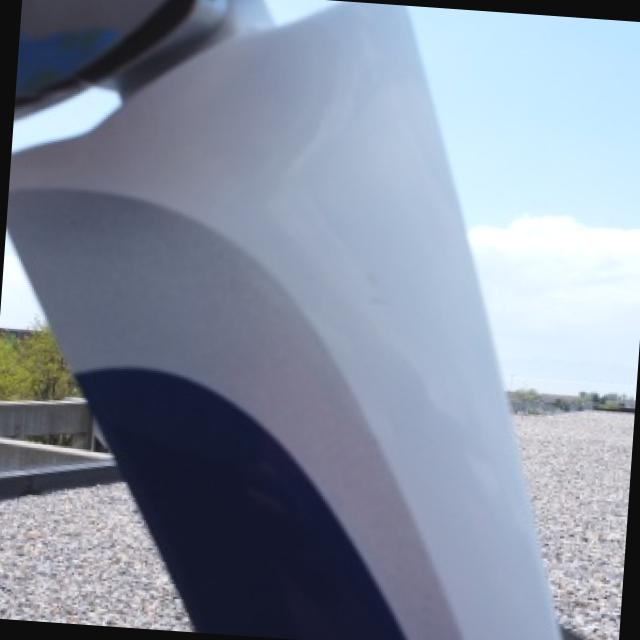healthy: (6, 0, 556, 640)
